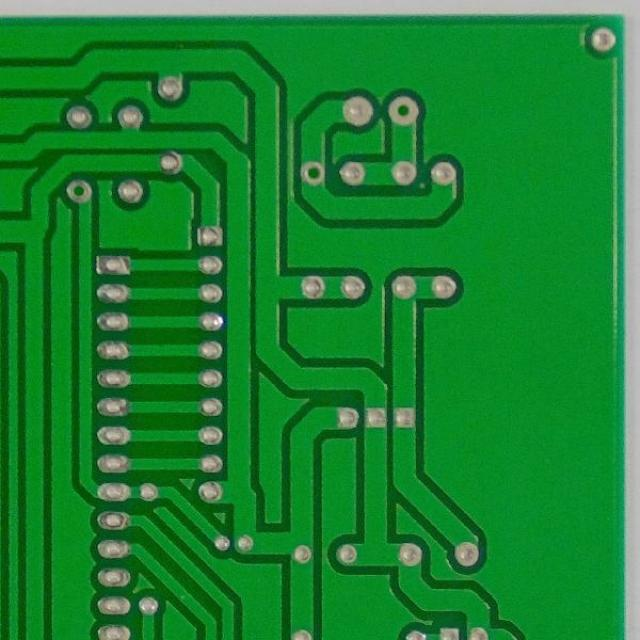missing_hole: (388, 94, 422, 127), (300, 157, 330, 190), (63, 175, 96, 204)
